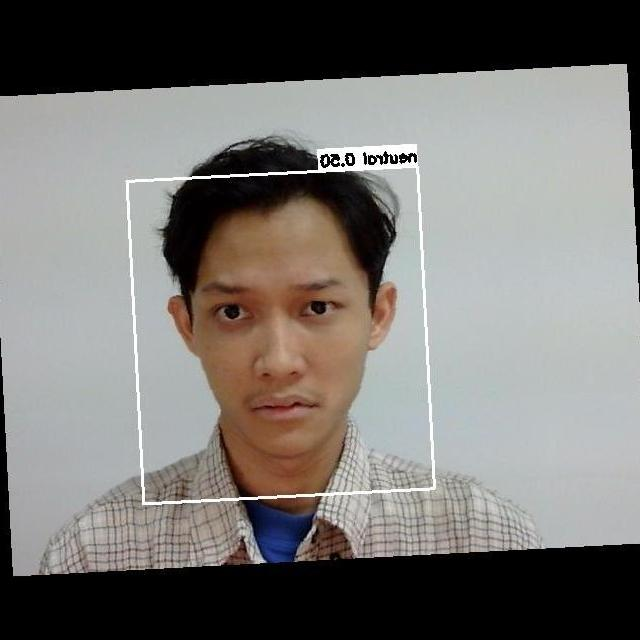Fear: (183, 258, 379, 464)
